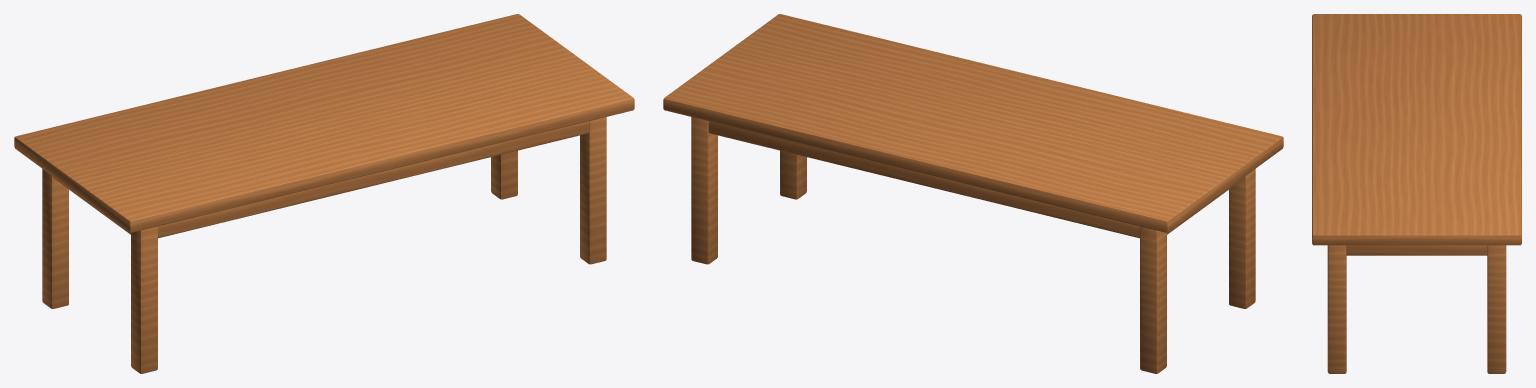
File: SM_Table_Dining.fbx
3 views of the same model, side by side, from view 1: azimuth 30°, elevation 25°; view 2: azimuth 150°, elevation 25°; view 3: azimuth 270°, elevation 25° (orthographic). The views are drawn at different scales.
Visible parts, largest first — view 1: SM_Table_Dining; view 2: SM_Table_Dining; view 3: SM_Table_Dining.
Boxes of the visible parts, <box> form: SM_Table_Dining: <box>14,14,634,373</box>; SM_Table_Dining: <box>663,14,1283,373</box>; SM_Table_Dining: <box>1312,14,1521,373</box>.
Size of what is drawn, in the model's own units: 2.5 by 0.78 by 1.
Materials: 1 (1 with a texture image).
